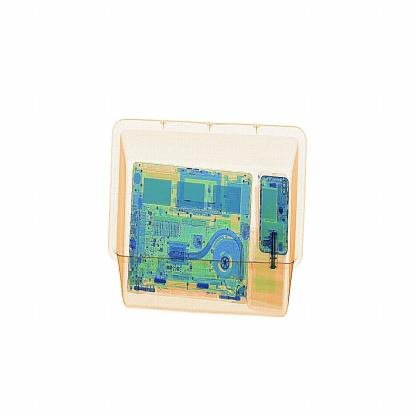scissors: (266, 228, 280, 280)
